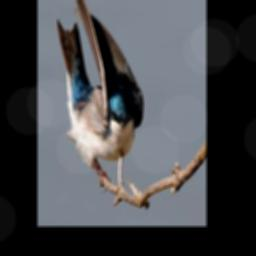Swallow: (55, 0, 144, 192)
